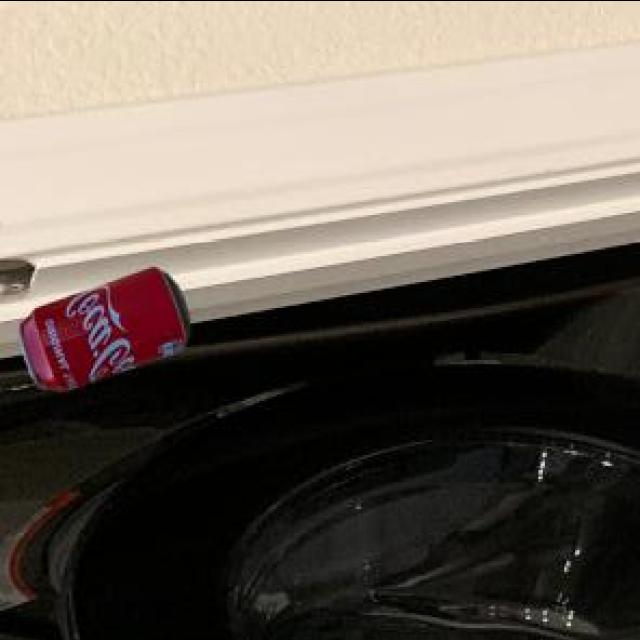logam: (16, 263, 187, 386)
